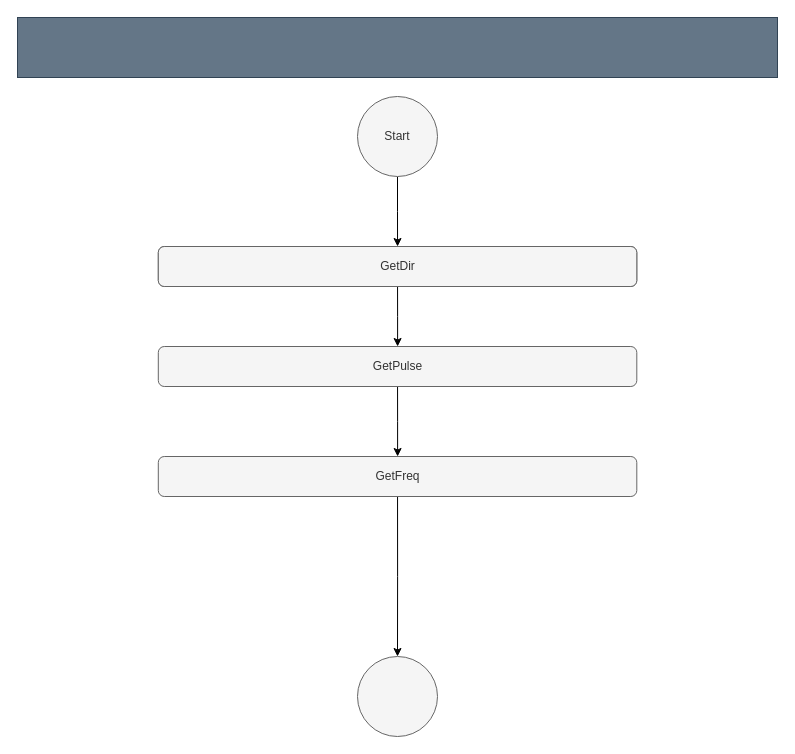
The diagram is 795 pixels wide and 754 high, and some of its shapes have lost their labels. Here are the shapes that lost their labels. From the top down, the centre of each, then its label:
At point (397, 47): "GMCM_Cyclic ( t_float32 * f_SnsValue_paf32, t_sAPPLGC_SrvFunc * f_SrvInfo_pas )".
At point (397, 696): "End".
